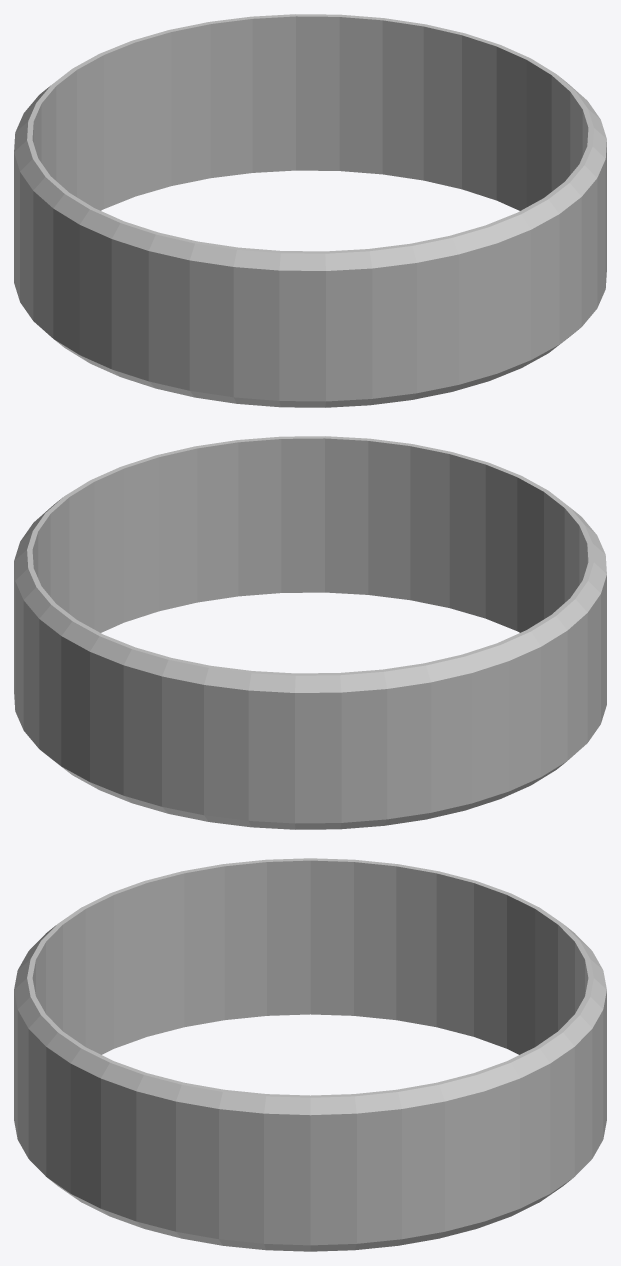
Rendered from jaco_small_ring_cover.min.dae.
The picture shows the model from 3 angles, top to bottom: view 1: azimuth 30°, elevation 25°; view 2: azimuth 150°, elevation 25°; view 3: azimuth 270°, elevation 25°; orthographic projection.
Parts seen in each view (by area): view 1: Component_2 (×2); view 2: Component_2 (×2); view 3: Component_2 (×2).
Boxes of the visible parts, box(x1,y1,x2,y2) form: Component_2 (×2): box(14, 14, 606, 407); Component_2 (×2): box(14, 436, 606, 829); Component_2 (×2): box(14, 858, 606, 1251).
Size of the model in its own units: 106 by 106 by 30.23.
Materials: 1 (1 with a texture image).
